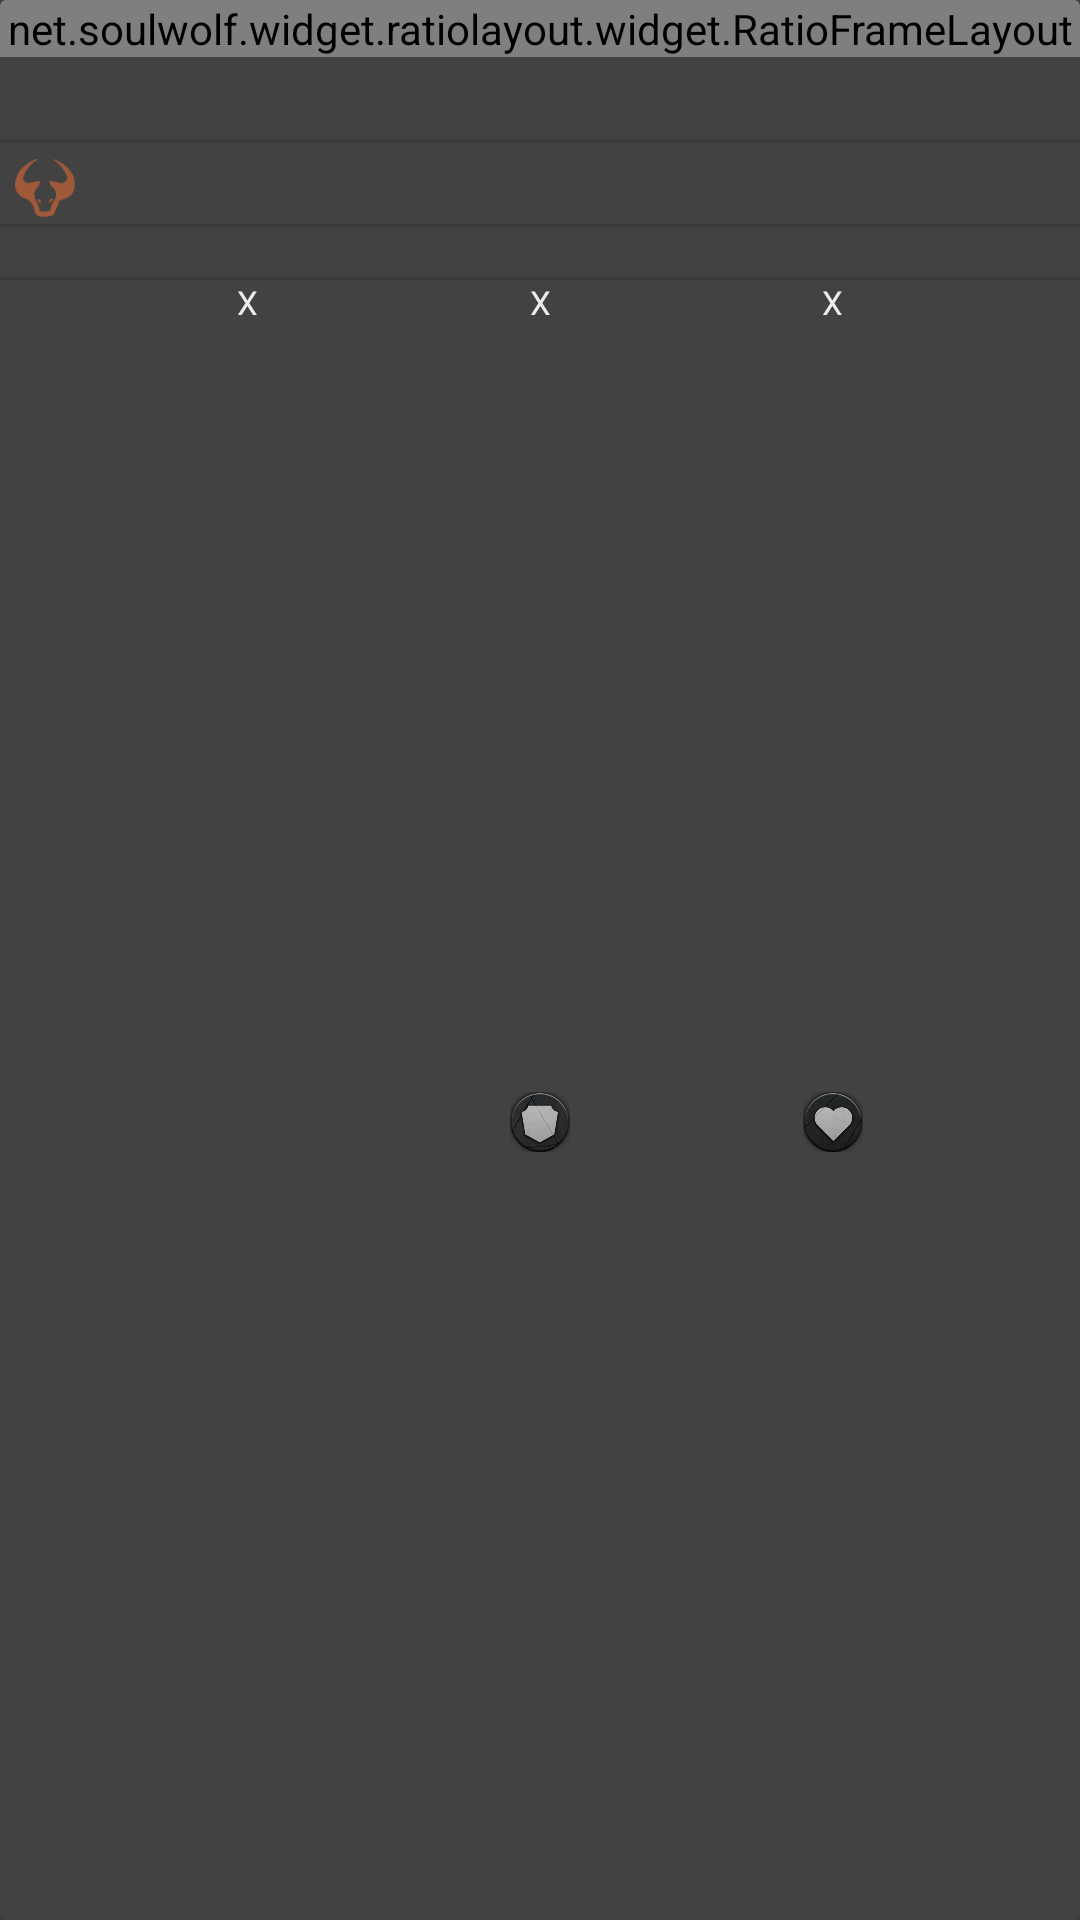

Icons on this 1080×1920 Android screen, each with the point to tap as (x,y):
armor: (540,1122)
health: (833,1122)
